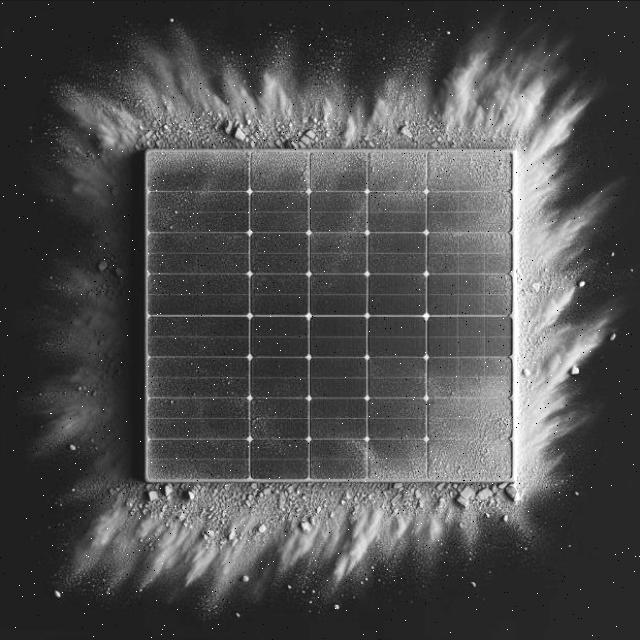Anomaly Solar Panel: (148, 150, 515, 482)
Surface Contaminant: (148, 151, 512, 319), (306, 356, 515, 483), (148, 304, 293, 482)
